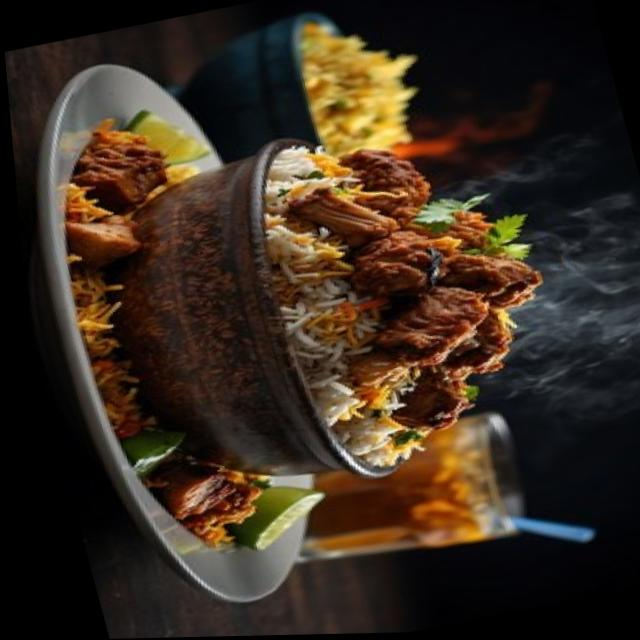BIRIYANI: (263, 147, 537, 466)
